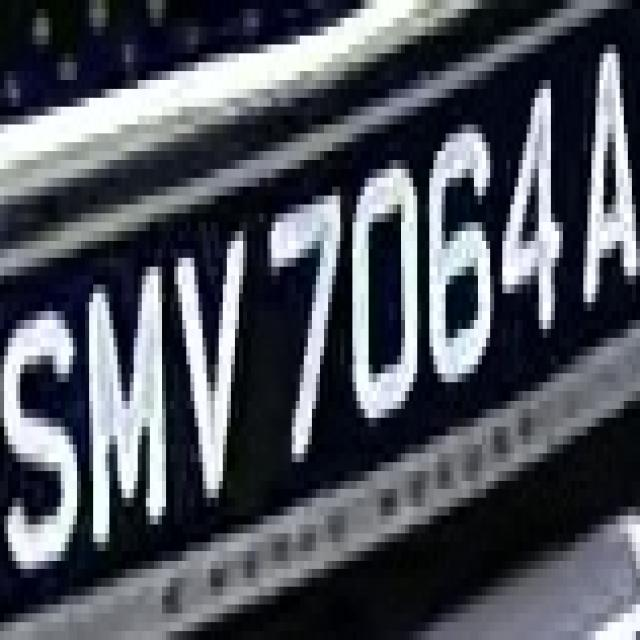0: (336, 142, 426, 427)
4: (482, 36, 571, 382)
6: (413, 98, 494, 418)
7: (260, 169, 344, 489)
A: (567, 0, 636, 347)
M: (73, 267, 170, 560)
S: (8, 266, 89, 604)
V: (170, 213, 255, 507)
